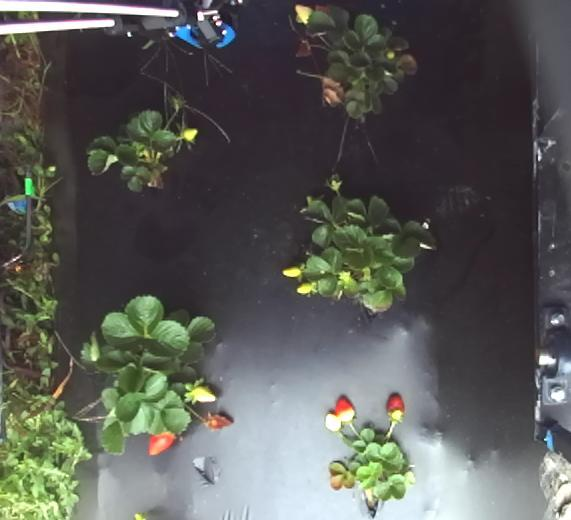immature: (189, 383, 218, 405), (324, 410, 342, 436), (293, 2, 313, 22), (281, 265, 304, 277), (184, 127, 199, 143), (296, 284, 313, 294)
leaves: (320, 77, 345, 108), (328, 462, 352, 492), (401, 53, 420, 84)
mature: (145, 427, 177, 457), (382, 388, 406, 425), (200, 408, 233, 433), (335, 391, 354, 425), (293, 39, 314, 61)
